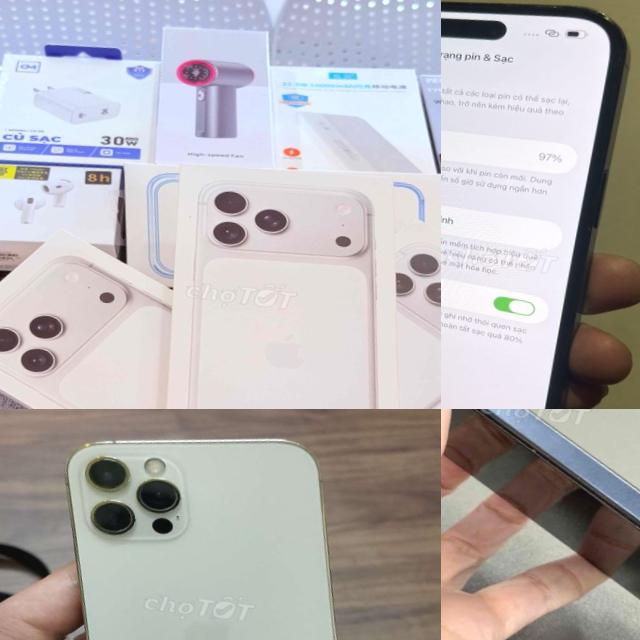gen_12_13: (22, 409, 395, 640)
gen_14: (441, 0, 640, 409)
gen_15: (441, 409, 640, 640)
gen_17: (156, 171, 424, 409)
